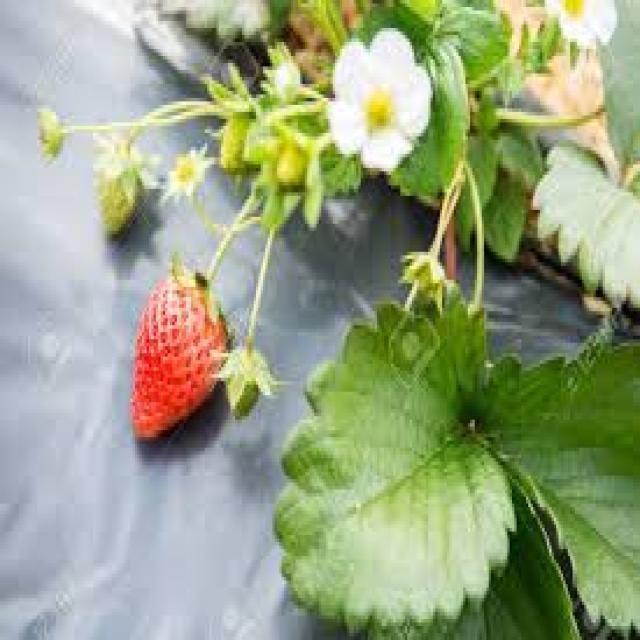straw-ripe: (130, 277, 228, 439)
straw-unripe: (99, 159, 138, 233)
